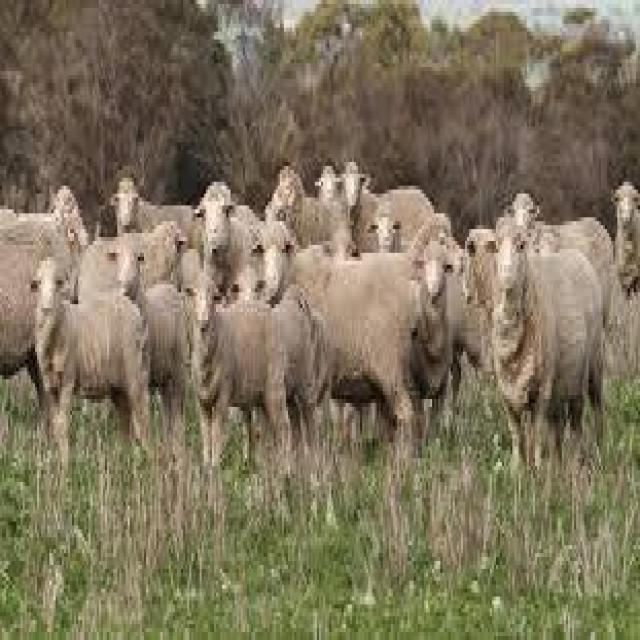Sheep: (491, 219, 608, 429), (185, 273, 313, 458), (24, 251, 155, 425)
